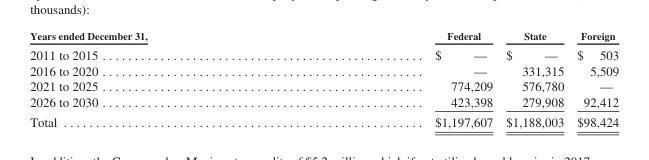table: (29, 28, 618, 129)
table column: (29, 28, 290, 129), (290, 28, 498, 129), (498, 28, 569, 129), (569, 28, 618, 129)
table column header: (29, 28, 618, 44)
table row: (29, 44, 618, 62), (29, 93, 618, 111), (29, 111, 618, 129), (29, 28, 618, 44), (29, 62, 618, 78), (29, 78, 618, 93)
